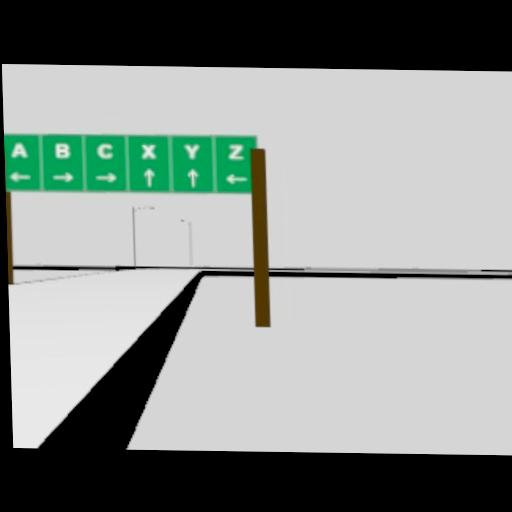A: (10, 141, 29, 159)
B: (55, 142, 70, 159)
C: (95, 143, 116, 160)
Left: (226, 173, 249, 186), (8, 170, 30, 182)
Right: (51, 171, 76, 185), (93, 171, 118, 182)
Straight: (142, 167, 156, 188), (185, 168, 199, 188)
X: (141, 142, 158, 161)
Y: (183, 142, 202, 159)
Z: (226, 143, 247, 162)
